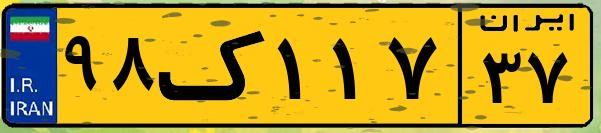1: (270, 28, 330, 110), (330, 28, 385, 110)
3: (475, 38, 525, 113)
7: (385, 28, 445, 110), (525, 38, 570, 115)
8: (110, 28, 158, 98)
9: (57, 26, 110, 100)
ک: (158, 12, 270, 120)
